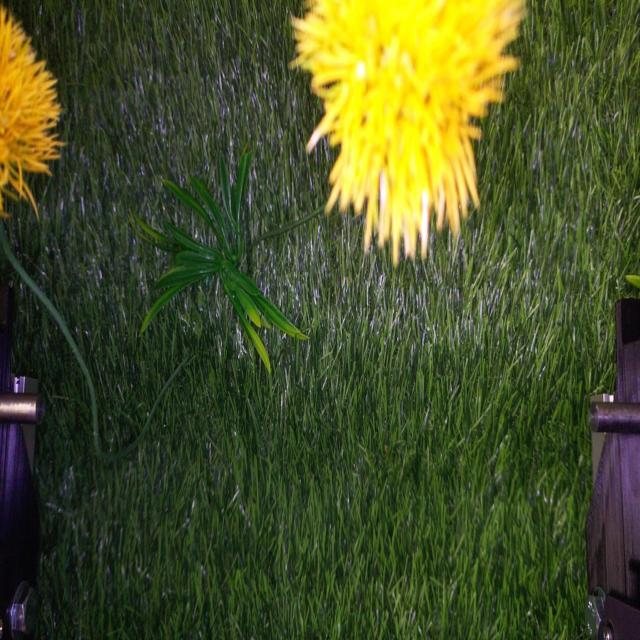dandelion: (0, 0, 633, 631)
